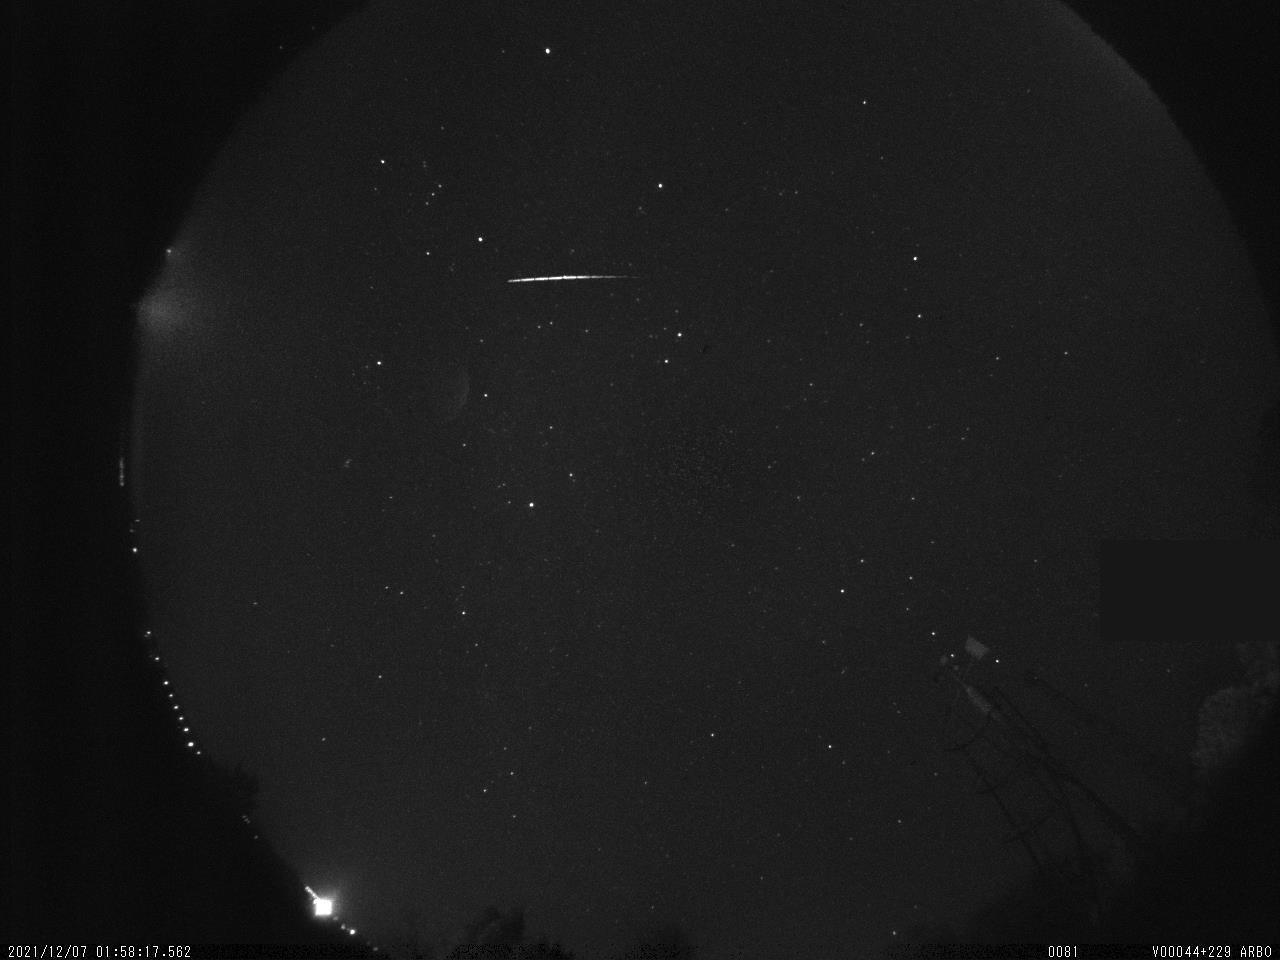Meteor: (505, 271, 637, 284)
